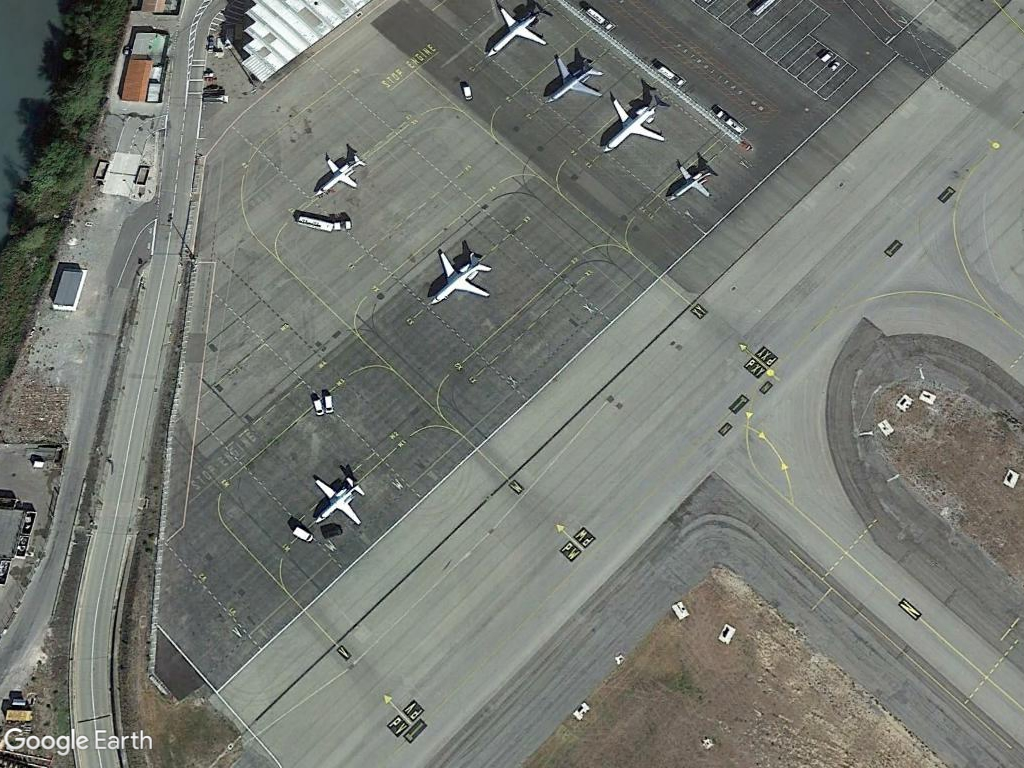airliner: (487, 0, 553, 59), (540, 49, 605, 107)
chartered: (599, 92, 675, 157), (423, 247, 494, 306), (308, 472, 366, 532), (306, 148, 367, 199), (666, 155, 718, 204)
van: (321, 392, 338, 415), (461, 82, 477, 104)
